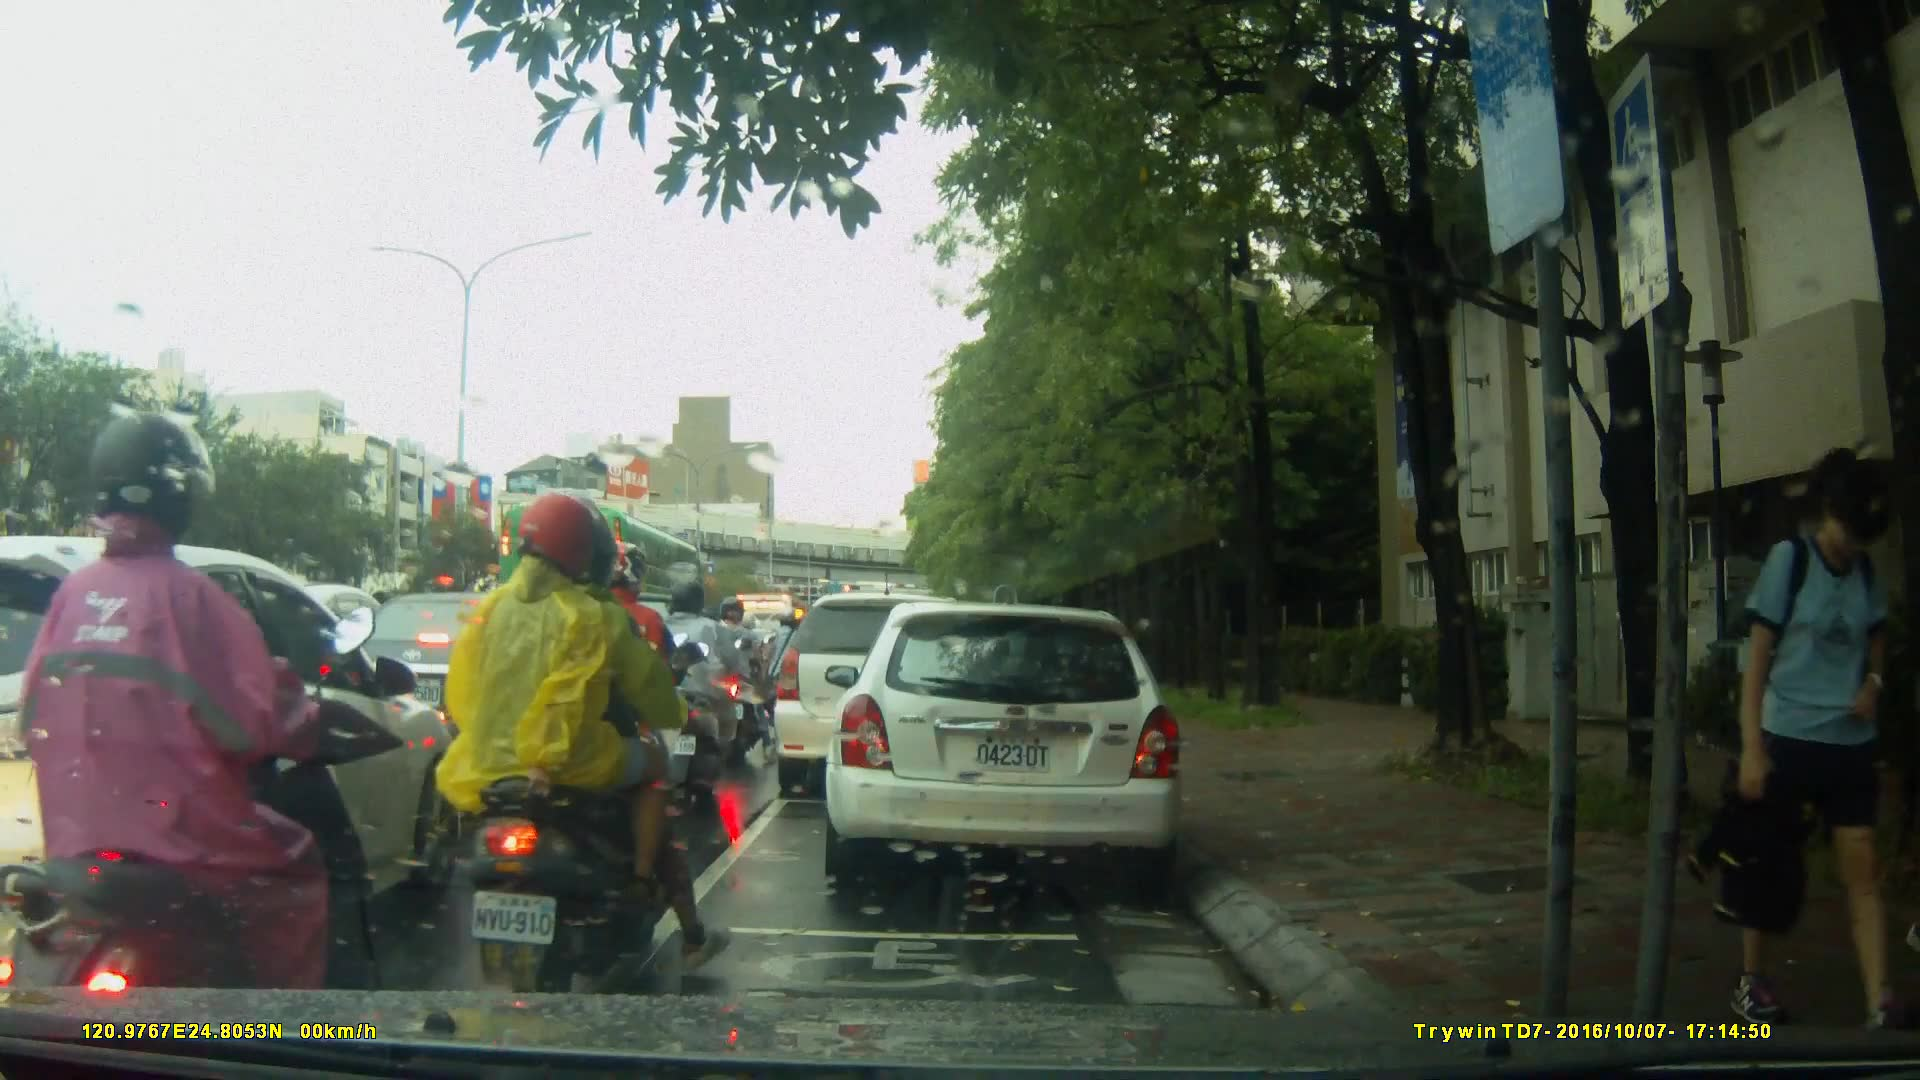pedestrian: (1712, 434, 1913, 1012)
rider: (10, 419, 409, 1063), (441, 494, 682, 999), (554, 543, 687, 848), (648, 582, 742, 801), (711, 591, 770, 761), (763, 607, 816, 730)
vehicle: (3, 534, 463, 988), (831, 592, 1196, 897), (320, 590, 629, 776), (770, 590, 999, 804), (495, 499, 709, 636)
